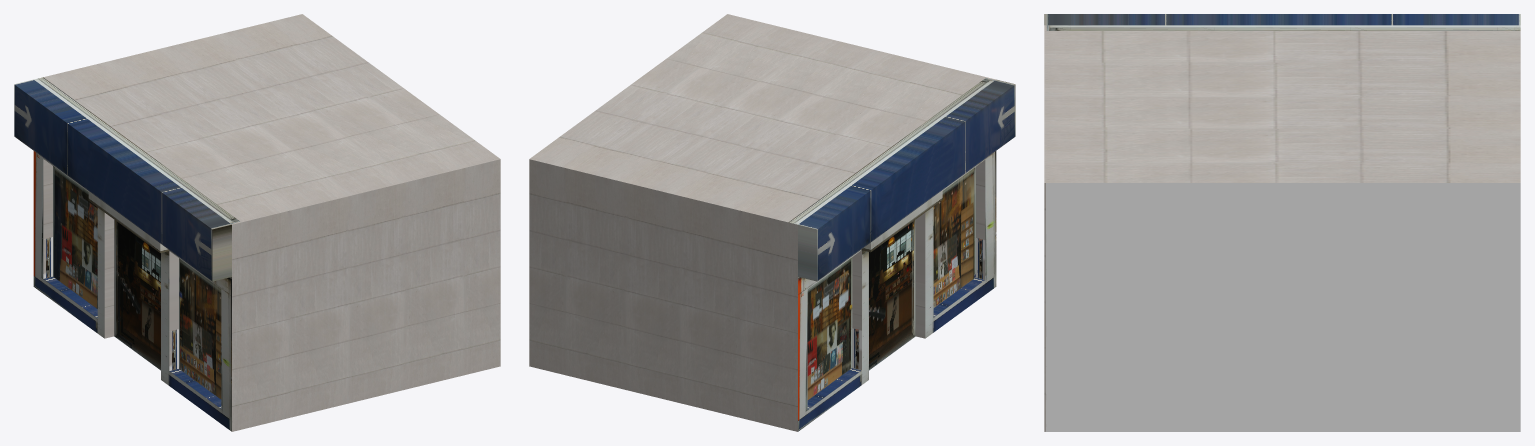
The model's file is building05.fbx.
3 views of the same model, side by side, from view 1: azimuth 30°, elevation 25°; view 2: azimuth 150°, elevation 25°; view 3: azimuth 270°, elevation 25° (orthographic). The views are drawn at different scales.
Visible parts, largest first — view 1: building05; view 2: building05; view 3: building05.
Part boxes in pixels (x1,y1,x2,y2): building05: (14,14,500,431); building05: (529,14,1015,431); building05: (1044,14,1520,431).
Size of the model in its own units: 84.15 by 57.8 by 100.
